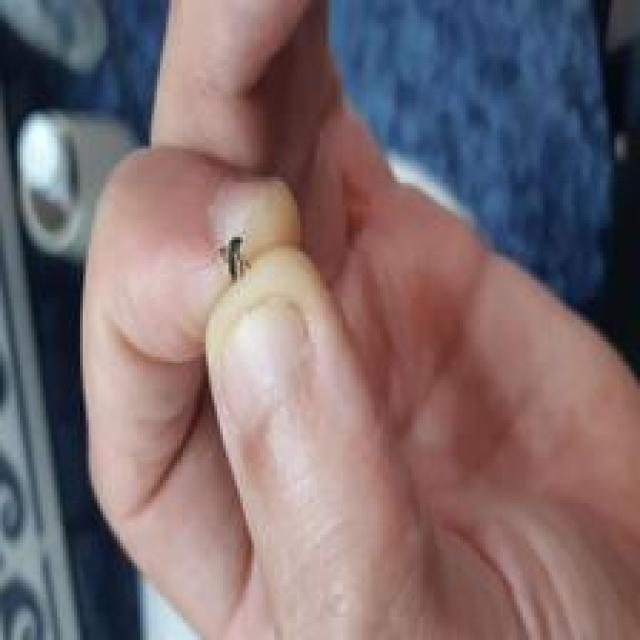Aedes albopictus: (216, 234, 253, 283)
